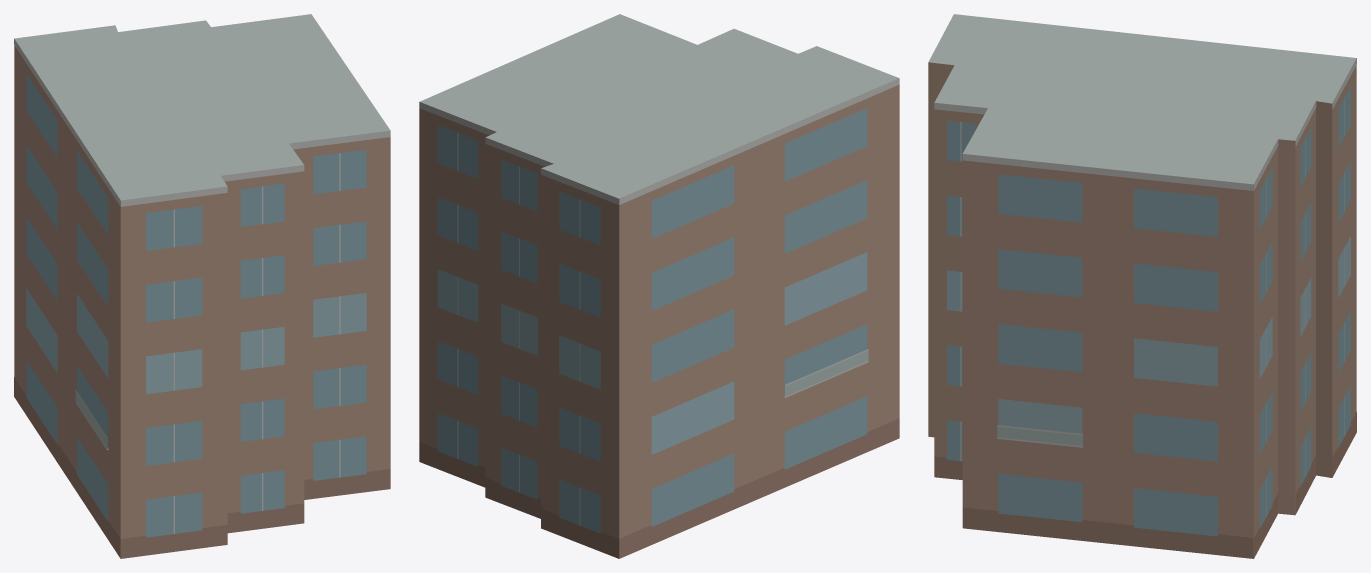
File: survey-upis-32632640.glb
3 views of the same model, side by side, from view 1: azimuth 30°, elevation 25°; view 2: azimuth 150°, elevation 25°; view 3: azimuth 270°, elevation 25° (orthographic). The views are drawn at different scales.
Visible parts, largest first — view 1: survey-upis-32632640.tmp; view 2: survey-upis-32632640.tmp; view 3: survey-upis-32632640.tmp.
Boxes of the visible parts, box(x1,y1,x2,y2) form: survey-upis-32632640.tmp: box(14, 14, 390, 558); survey-upis-32632640.tmp: box(419, 14, 899, 558); survey-upis-32632640.tmp: box(928, 14, 1356, 558).
Size of the model in its own units: 13.48 by 13.8 by 14.32.
